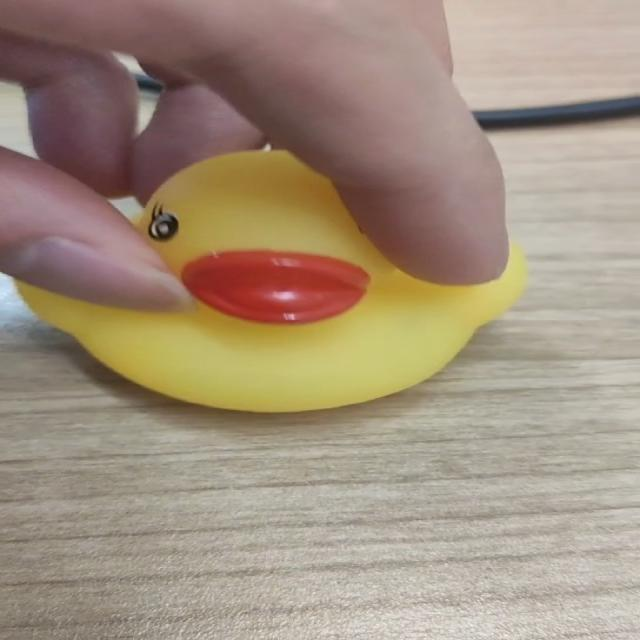rubber-duck: (17, 150, 525, 410)
